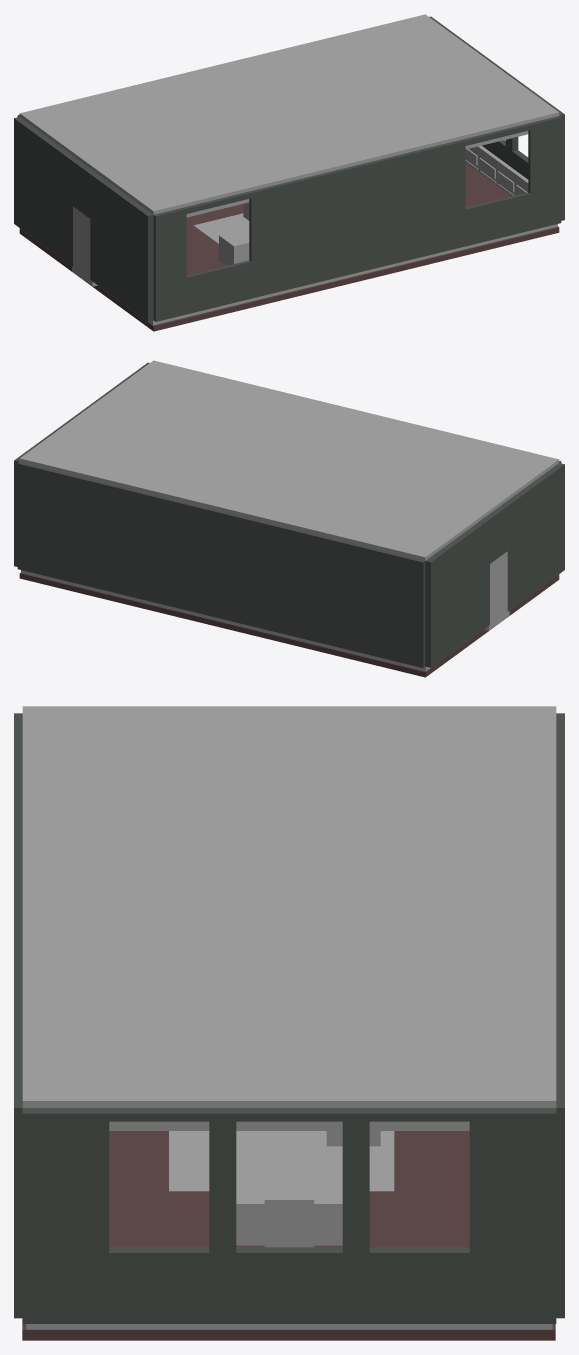
File: Layout_Test.fbx
3 views of the same model, one above another, from view 1: azimuth 30°, elevation 25°; view 2: azimuth 150°, elevation 25°; view 3: azimuth 270°, elevation 25° (orthographic). The views are drawn at different scales.
Visible parts, largest first — view 1: Celling, Wall_Side02wCuts, Wall_Front, Floor, Trim, Wall_BackwCut, Trim1, Door, Rug, Chair1, Upper_Trim; view 2: Celling, Wall_wNoWindows, Wall_Front, Floor, Trim, Door, Wall_BackwCut; view 3: Celling, Wall_BackwCut, Floor, Rug, Wall_Side02wCuts, Wall_wNoWindows, Desk, Chair, Trim, Upper_Trim, Trim1.
Boxes of the visible parts, x1,y1,x2,y2 form: Celling: (19, 14, 559, 214); Wall_Side02wCuts: (153, 116, 561, 321); Wall_Front: (14, 117, 153, 321); Floor: (19, 163, 559, 331); Trim: (148, 145, 557, 325); Wall_BackwCut: (429, 16, 564, 220); Trim1: (149, 149, 557, 324); Door: (72, 206, 97, 286); Rug: (194, 213, 249, 243); Chair1: (219, 231, 249, 265); Upper_Trim: (186, 131, 528, 217); Celling: (19, 360, 559, 560); Wall_wNoWindows: (17, 462, 425, 667); Wall_Front: (425, 463, 564, 667); Floor: (19, 572, 559, 677); Trim: (21, 570, 430, 671); Door: (484, 551, 509, 630); Wall_BackwCut: (14, 362, 149, 566); Celling: (22, 706, 556, 1107); Wall_BackwCut: (22, 1108, 556, 1323); Floor: (22, 1131, 555, 1340); Rug: (169, 1131, 394, 1191); Wall_Side02wCuts: (14, 713, 22, 1318); Wall_wNoWindows: (556, 713, 564, 1318); Desk: (236, 1179, 342, 1245); Chair: (264, 1185, 314, 1247); Trim: (26, 1324, 552, 1329); Upper_Trim: (109, 1121, 469, 1130); Trim1: (26, 1324, 552, 1329).
Size of the model in its own units: 1645 by 453 by 944.
